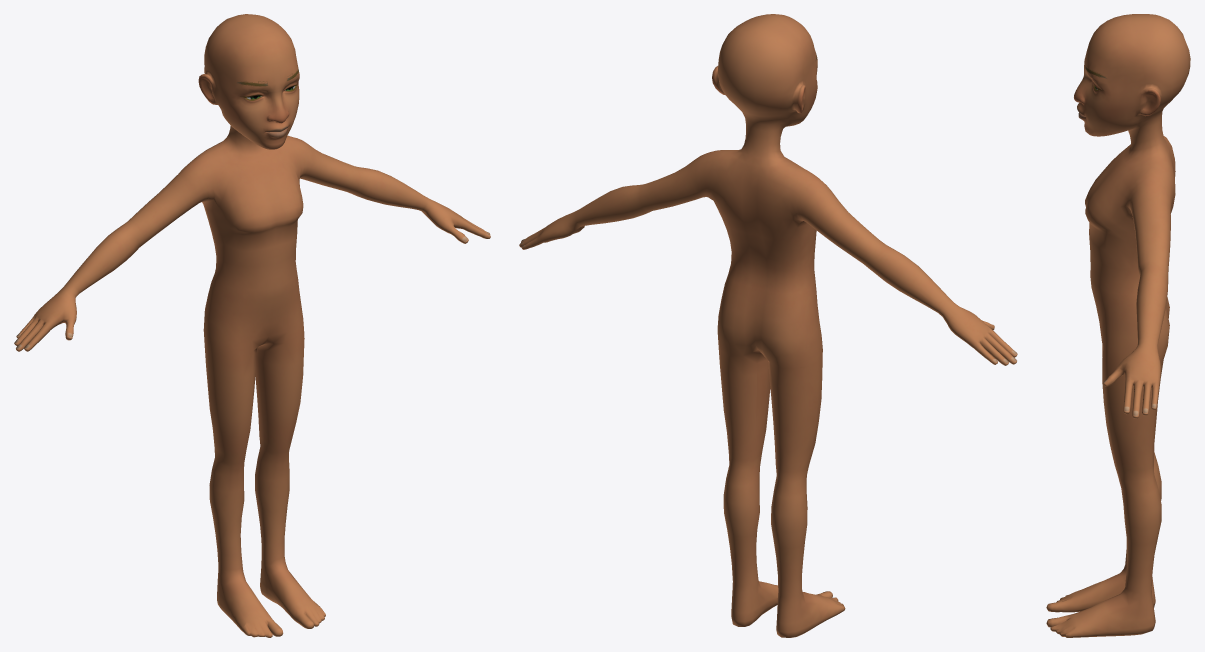
The model's file is frame_0033.glb.
3 renders of one model, left to right at view 1: azimuth 30°, elevation 25°; view 2: azimuth 150°, elevation 25°; view 3: azimuth 270°, elevation 25°, orthographic. The views are drawn at different scales.
Parts seen in each view (by area): view 1: frame_0033_head_geo; view 2: frame_0033_head_geo; view 3: frame_0033_head_geo.
Part boxes in pixels (x1=…): frame_0033_head_geo: x1=14, y1=14, x2=490, y2=637; frame_0033_head_geo: x1=519, y1=14, x2=1017, y2=637; frame_0033_head_geo: x1=1046, y1=14, x2=1190, y2=637.
Size of the model in its own units: 1.28 by 1.5 by 0.3253.
Materials: 3 (3 with a texture image).
